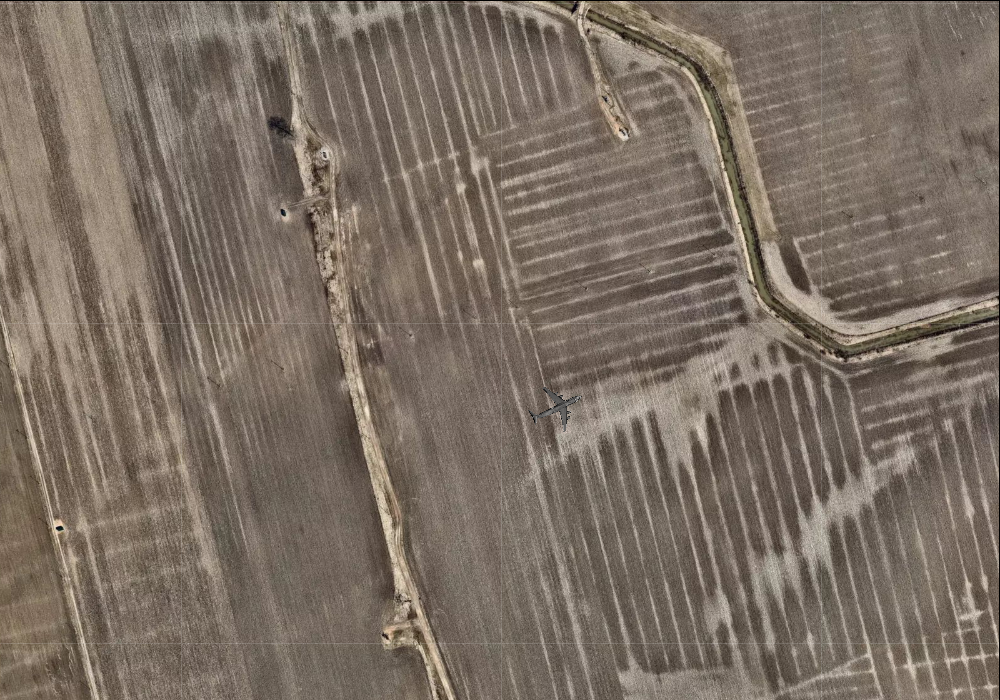plane: (519, 371, 592, 443)
